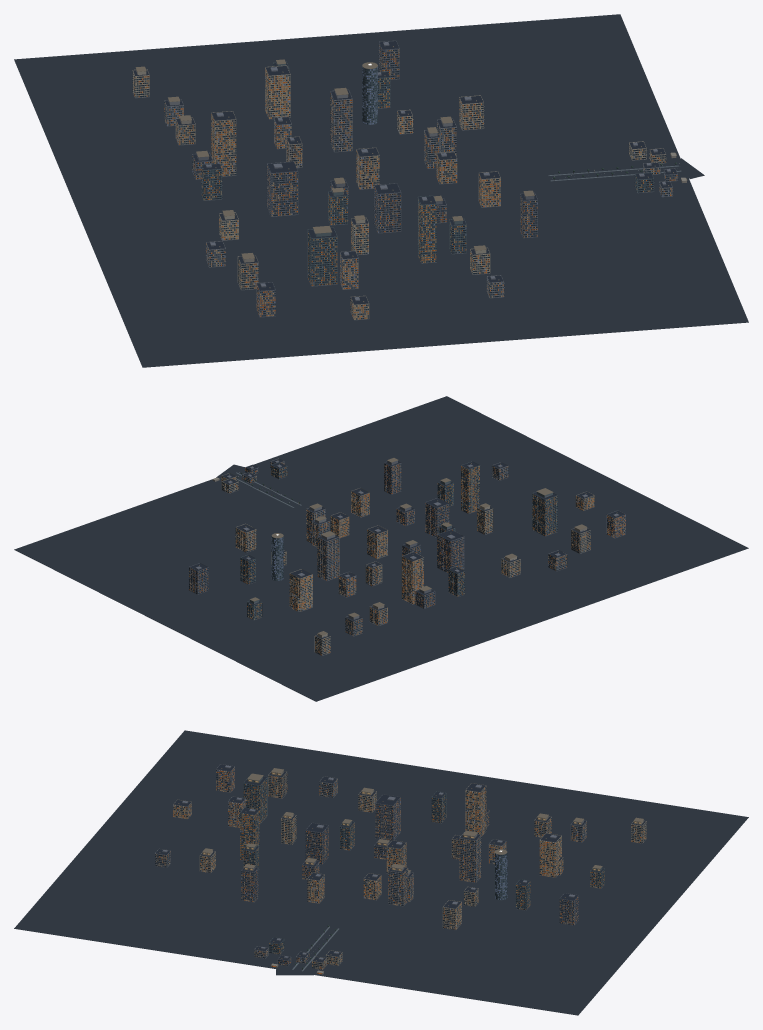
File: city.glb
3 views of the same model, one above another, from view 1: azimuth 30°, elevation 25°; view 2: azimuth 150°, elevation 25°; view 3: azimuth 270°, elevation 25° (orthographic). The views are drawn at different scales.
Parts seen in each view (by area): view 1: CITY_Geometry_CITY_Street_asphalt, CITY_Geometry_CITY_Shadow_recess, CITY_Geometry_CITY_Unlit_glass, CITY_Geometry_CITY_Stone_0, CITY_Geometry_CITY_Stone_4, CITY_Geometry_CITY_Stone_1, CITY_Geometry_CITY_Stone_2, CITY_Geometry_CITY_Stone_3, CITY_Window_Emissive_CITY_Window_Warm_0, CITY_Window_Emissive_CITY_Window_Warm_2, CITY_Window_Emissive_CITY_Window_Warm_1, CITY_Geometry_CITY_Bronze_frame (+2 smaller); view 2: CITY_Geometry_CITY_Street_asphalt, CITY_Geometry_CITY_Unlit_glass, CITY_Geometry_CITY_Shadow_recess, CITY_Geometry_CITY_Stone_0, CITY_Geometry_CITY_Stone_4, CITY_Geometry_CITY_Stone_1, CITY_Geometry_CITY_Stone_2, CITY_Geometry_CITY_Stone_3, CITY_Window_Emissive_CITY_Window_Warm_0, CITY_Window_Emissive_CITY_Window_Warm_2, CITY_Window_Emissive_CITY_Window_Warm_1, CITY_Geometry_CITY_Bronze_frame (+2 smaller); view 3: CITY_Geometry_CITY_Street_asphalt, CITY_Geometry_CITY_Unlit_glass, CITY_Geometry_CITY_Shadow_recess, CITY_Geometry_CITY_Stone_0, CITY_Geometry_CITY_Stone_4, CITY_Geometry_CITY_Stone_1, CITY_Geometry_CITY_Stone_2, CITY_Geometry_CITY_Stone_3, CITY_Window_Emissive_CITY_Window_Warm_2, CITY_Window_Emissive_CITY_Window_Warm_1, CITY_Window_Emissive_CITY_Window_Warm_0, CITY_Geometry_CITY_Bronze_frame (+2 smaller).
Part boxes in pixels (box(x1,y1,x2,y2)): CITY_Geometry_CITY_Street_asphalt: box(14, 14, 748, 367); CITY_Geometry_CITY_Shadow_recess: box(132, 41, 678, 316); CITY_Geometry_CITY_Unlit_glass: box(132, 43, 677, 319); CITY_Geometry_CITY_Stone_0: box(132, 40, 677, 320); CITY_Geometry_CITY_Stone_4: box(201, 61, 654, 286); CITY_Geometry_CITY_Stone_1: box(175, 111, 686, 319); CITY_Geometry_CITY_Stone_2: box(164, 89, 681, 297); CITY_Geometry_CITY_Stone_3: box(132, 65, 646, 274); CITY_Window_Emissive_CITY_Window_Warm_0: box(134, 47, 675, 319); CITY_Window_Emissive_CITY_Window_Warm_2: box(134, 49, 677, 319); CITY_Window_Emissive_CITY_Window_Warm_1: box(138, 45, 675, 319); CITY_Geometry_CITY_Bronze_frame: box(134, 46, 687, 313); CITY_Geometry_CITY_Street_asphalt: box(14, 396, 748, 701); CITY_Geometry_CITY_Unlit_glass: box(189, 462, 625, 654); CITY_Geometry_CITY_Shadow_recess: box(188, 459, 624, 655); CITY_Geometry_CITY_Stone_0: box(189, 460, 625, 655); CITY_Geometry_CITY_Stone_4: box(240, 461, 557, 619); CITY_Geometry_CITY_Stone_1: box(212, 473, 594, 625); CITY_Geometry_CITY_Stone_2: box(242, 458, 567, 635); CITY_Geometry_CITY_Stone_3: box(221, 478, 520, 655); CITY_Window_Emissive_CITY_Window_Warm_0: box(189, 464, 624, 655); CITY_Window_Emissive_CITY_Window_Warm_2: box(189, 465, 624, 652); CITY_Window_Emissive_CITY_Window_Warm_1: box(189, 466, 625, 652); CITY_Geometry_CITY_Bronze_frame: box(198, 458, 617, 651); CITY_Geometry_CITY_Street_asphalt: box(14, 730, 748, 1015); CITY_Geometry_CITY_Unlit_glass: box(155, 768, 646, 968); CITY_Geometry_CITY_Shadow_recess: box(155, 764, 645, 969); CITY_Geometry_CITY_Stone_0: box(155, 764, 646, 969); CITY_Geometry_CITY_Stone_4: box(240, 774, 604, 954); CITY_Geometry_CITY_Stone_1: box(173, 771, 551, 974); CITY_Geometry_CITY_Stone_2: box(155, 776, 586, 969); CITY_Geometry_CITY_Stone_3: box(199, 790, 646, 965); CITY_Window_Emissive_CITY_Window_Warm_2: box(156, 767, 646, 968); CITY_Window_Emissive_CITY_Window_Warm_1: box(156, 769, 644, 968); CITY_Window_Emissive_CITY_Window_Warm_0: box(162, 770, 646, 967); CITY_Geometry_CITY_Bronze_frame: box(158, 768, 643, 973).
Bounding box in the file's own units: 1067 × 88.29 × 1163.
Materials: 19 (5 with a texture image).
